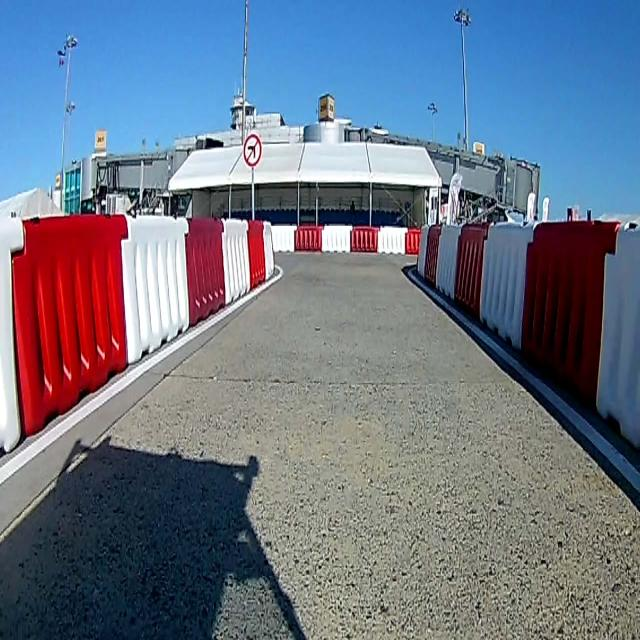soladonulmez: (243, 134, 261, 166)
